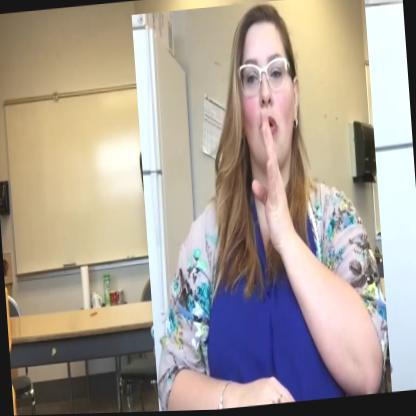Talk: (132, 0, 392, 413)
